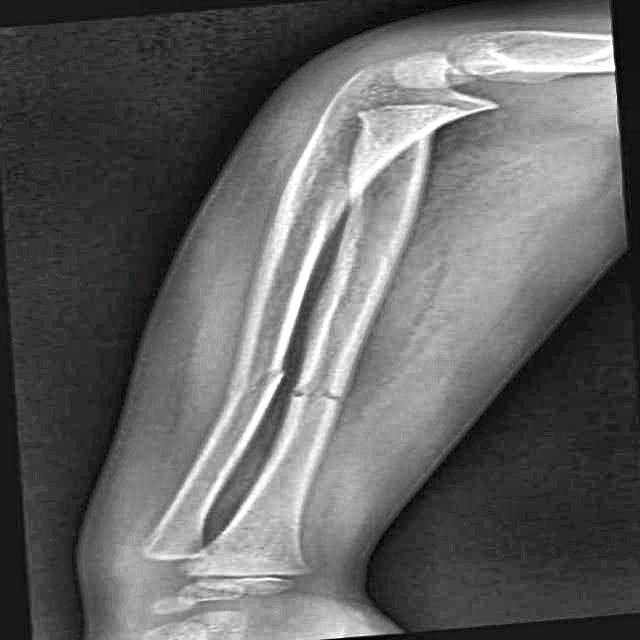Oblique Displaced: (208, 362, 300, 410)
Transverse Displaced: (277, 374, 367, 417)
